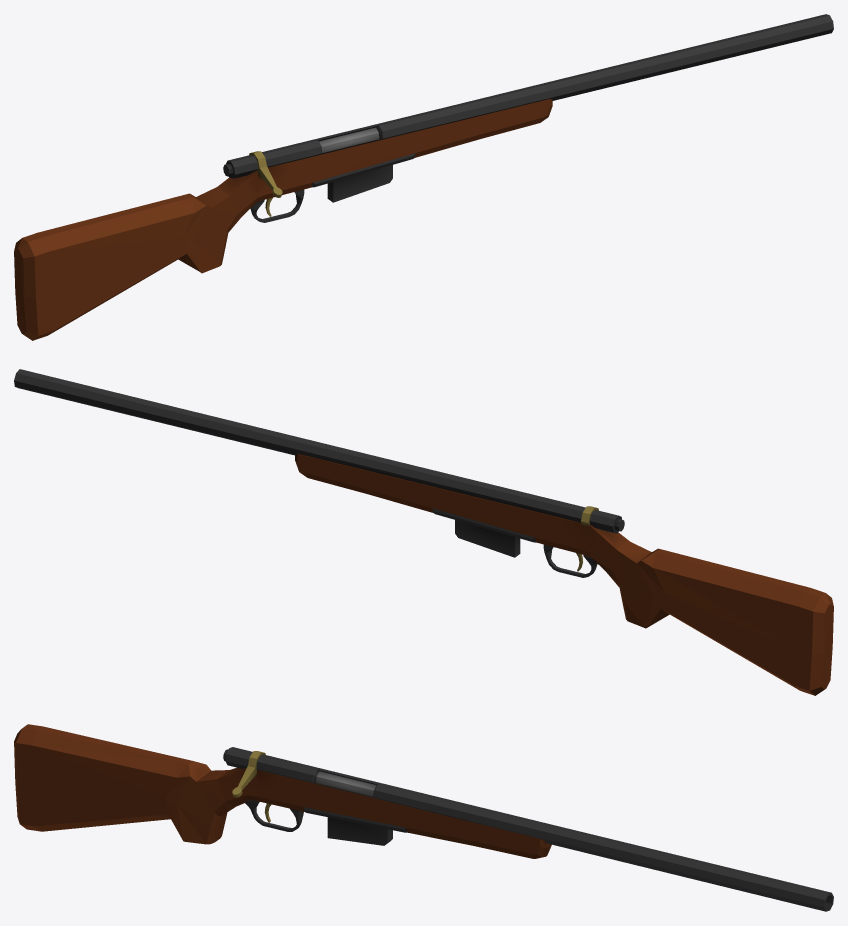
The model's file is v-boltaction-rifles-b-long.glb.
3 views of the same model, one above another, from view 1: azimuth 30°, elevation 25°; view 2: azimuth 150°, elevation 25°; view 3: azimuth 330°, elevation 25° (orthographic).
Parts seen in each view (by area): view 1: receiver (×3), stock, front (×2), grip; view 2: receiver (×2), stock, front (×2), grip; view 3: receiver (×4), stock, front (×2), grip (×2).
Part boxes in pixels (x1=…): receiver (×3): x1=143, y1=100, x2=480, y2=275; stock: x1=14, y1=205, x2=154, y2=340; front (×2): x1=473, y1=14, x2=833, y2=139; grip: x1=166, y1=184, x2=309, y2=273; receiver (×2): x1=367, y1=455, x2=704, y2=631; stock: x1=693, y1=560, x2=833, y2=695; front (×2): x1=14, y1=369, x2=373, y2=494; grip: x1=538, y1=539, x2=681, y2=628; receiver (×4): x1=136, y1=747, x2=477, y2=845; stock: x1=14, y1=724, x2=147, y2=831; front (×2): x1=470, y1=806, x2=833, y2=911; grip (×2): x1=152, y1=775, x2=303, y2=844.
Bounding box in the file's own units: 1.32 × 0.2039 × 0.0913.
